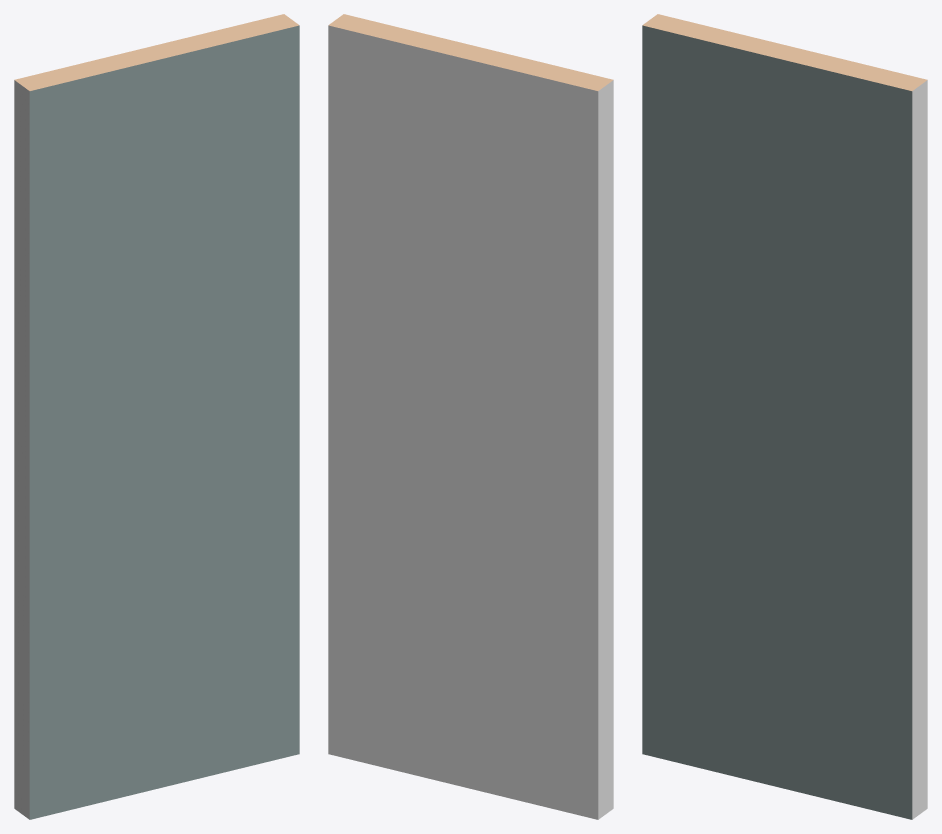
The model's file is wallHalf.glb.
3 views of the same model, side by side, from view 1: azimuth 30°, elevation 25°; view 2: azimuth 150°, elevation 25°; view 3: azimuth 330°, elevation 25° (orthographic).
Parts seen in each view (by area): view 1: wallHalf; view 2: wallHalf; view 3: wallHalf.
Boxes of the visible parts, bbox=[...] form: wallHalf: bbox=[14, 14, 299, 819]; wallHalf: bbox=[328, 14, 613, 819]; wallHalf: bbox=[642, 14, 927, 819].
Size of the model in its own units: 0.5 by 1.29 by 0.05.
